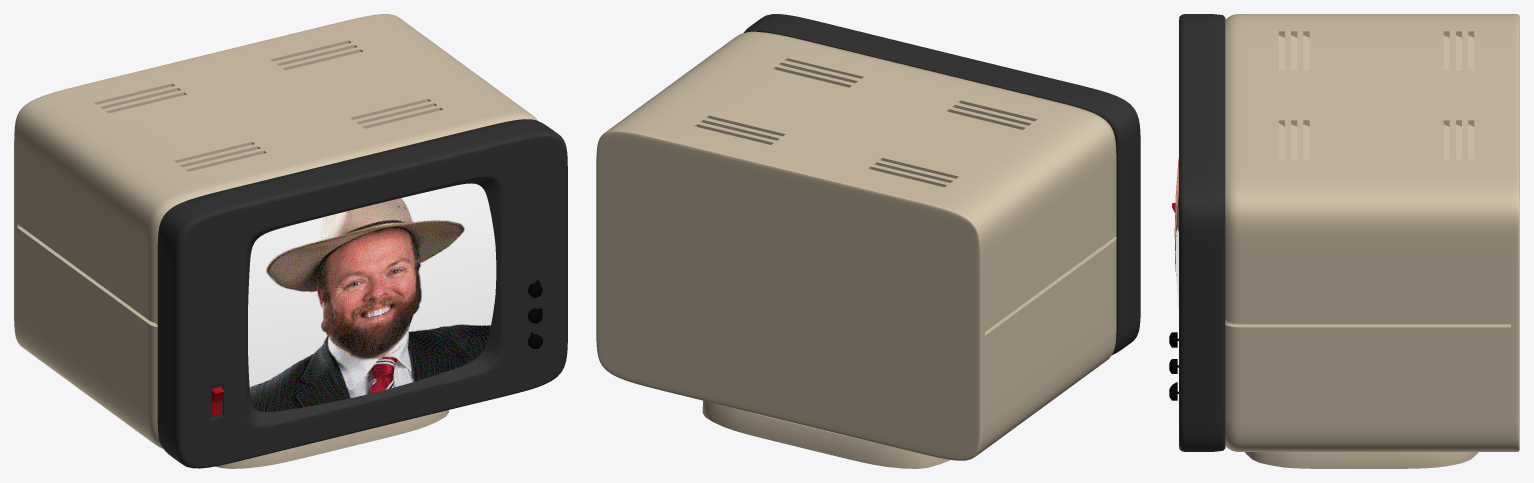
The model's file is comp wip 14.gltf.
3 renders of one model, left to right at view 1: azimuth 30°, elevation 25°; view 2: azimuth 150°, elevation 25°; view 3: azimuth 270°, elevation 25°, orthographic. The views are drawn at different scales.
Parts seen in each view (by area): view 1: Case, Glass; view 2: Case; view 3: Case, Glass.
Boxes of the visible parts, left/top/right/bottom form: Case: left=14, top=14, right=567, bottom=468; Glass: left=248, top=183, right=496, bottom=411; Case: left=596, top=14, right=1140, bottom=468; Case: left=1179, top=14, right=1519, bottom=468; Glass: left=1174, top=158, right=1178, bottom=307.
Bounding box in the file's own units: 3.2 × 2.3 × 2.4.
5 materials, 1 textured.
